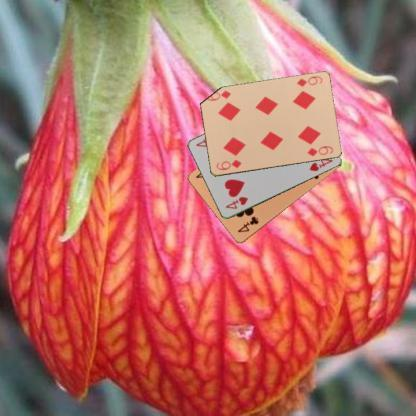4c: (235, 214, 260, 234)
4h: (222, 194, 249, 210)
6d: (214, 157, 243, 172), (294, 74, 324, 88)
